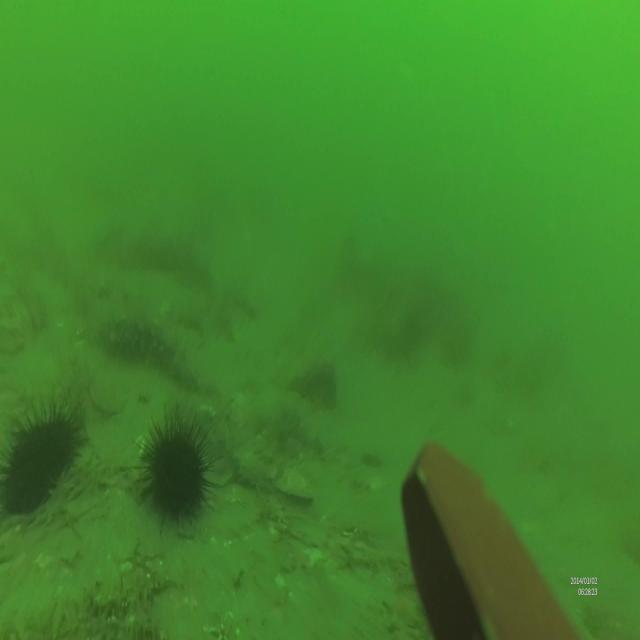echinus: (130, 401, 218, 538), (1, 395, 89, 517)
holothurian: (97, 314, 201, 396)
scallop: (275, 463, 315, 505)
